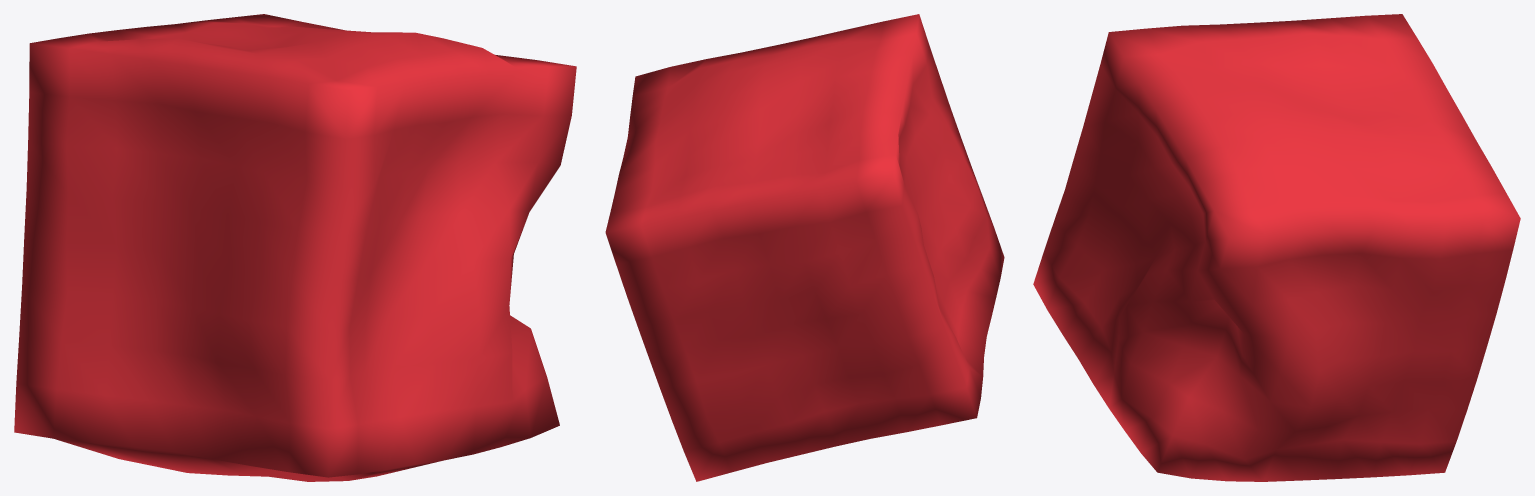
The picture shows the model from 3 angles, left to right: view 1: azimuth 30°, elevation 25°; view 2: azimuth 150°, elevation 25°; view 3: azimuth 270°, elevation 25°; orthographic projection. The views are drawn at different scales.
Parts seen in each view (by area): view 1: Object_4; view 2: Object_4; view 3: Object_4.
Boxes of the visible parts, bbox=[...] form: Object_4: bbox=[14, 14, 576, 481]; Object_4: bbox=[605, 14, 1004, 481]; Object_4: bbox=[1033, 14, 1520, 481].
Size of what is drawn, in the model's own units: 2.96 by 2.73 by 2.98.
